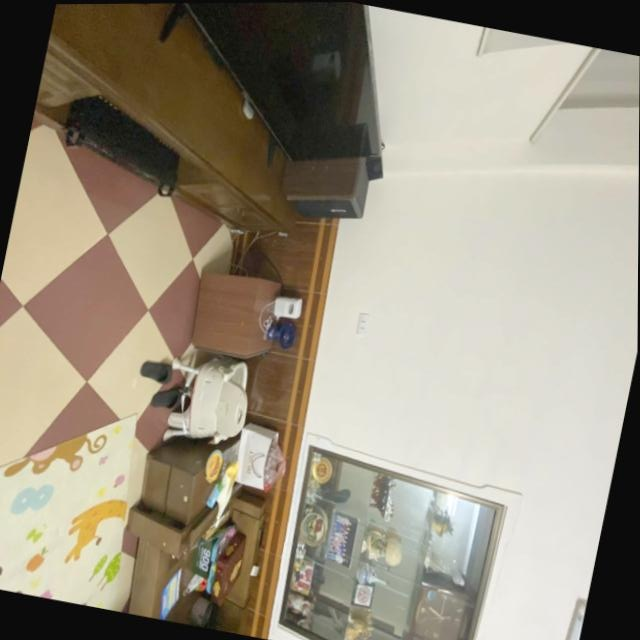outlet: (356, 311, 371, 337)
